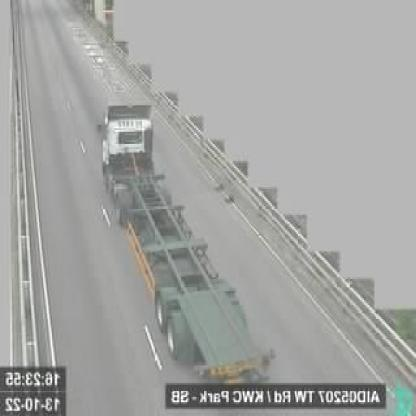Truck: (96, 103, 274, 382)
